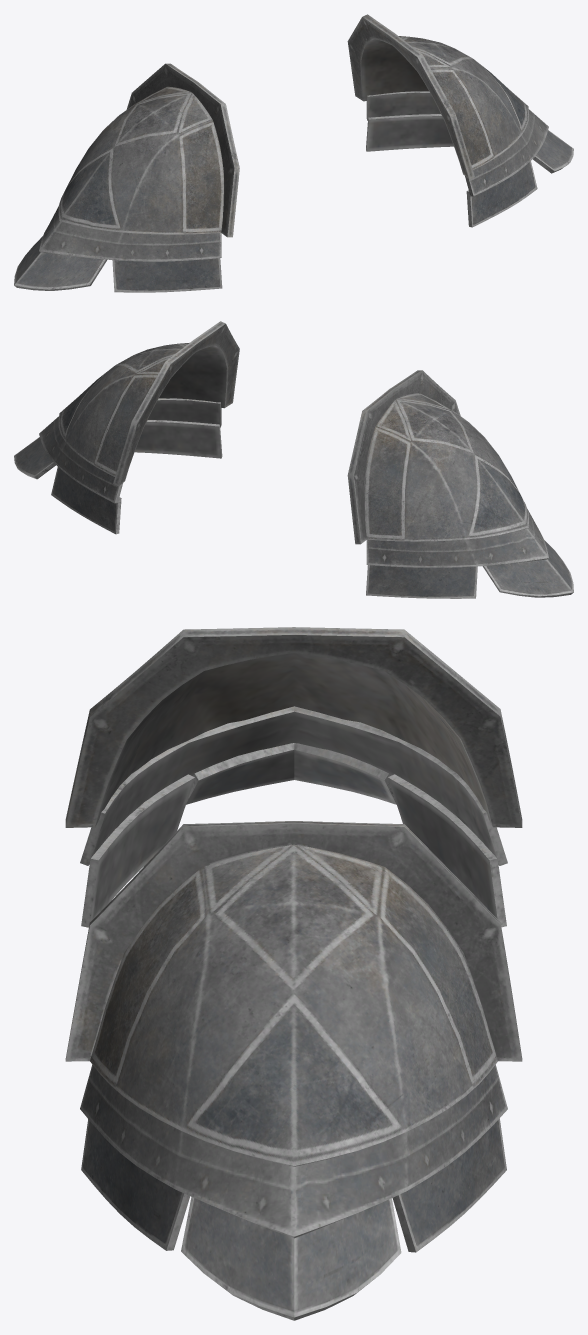
Rendered from sk_dwarf_erebor_pauldron_plate_heavy_b.fbx.
The picture shows the model from 3 angles, top to bottom: view 1: azimuth 30°, elevation 25°; view 2: azimuth 150°, elevation 25°; view 3: azimuth 270°, elevation 25°; orthographic projection. The views are drawn at different scales.
Visible parts, largest first — view 1: sk_dwarf_erebor_pauldron_plate_heavy_b; view 2: sk_dwarf_erebor_pauldron_plate_heavy_b; view 3: sk_dwarf_erebor_pauldron_plate_heavy_b.
Boxes of the visible parts, box(x1,y1,x2,y2) form: sk_dwarf_erebor_pauldron_plate_heavy_b: box(14, 14, 573, 292); sk_dwarf_erebor_pauldron_plate_heavy_b: box(14, 321, 573, 598); sk_dwarf_erebor_pauldron_plate_heavy_b: box(65, 627, 522, 1320).
Size of the model in its own units: 0.8629 by 0.3048 by 0.2393.
1 material, 1 textured.
